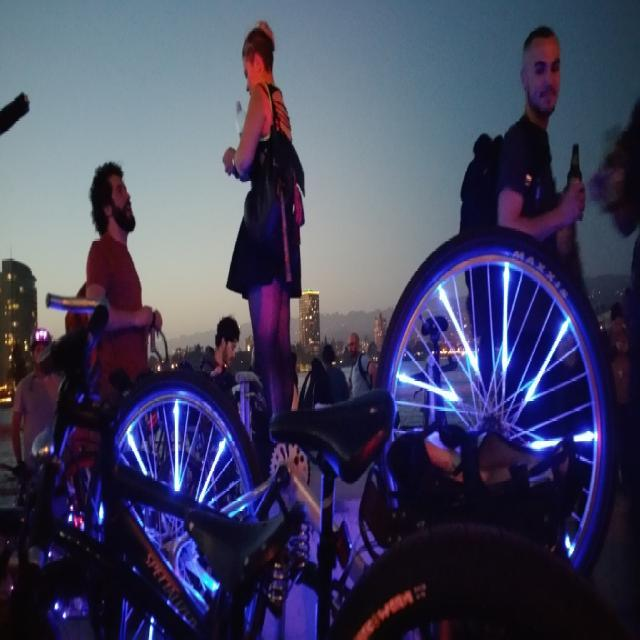car: (0, 90, 615, 640)
